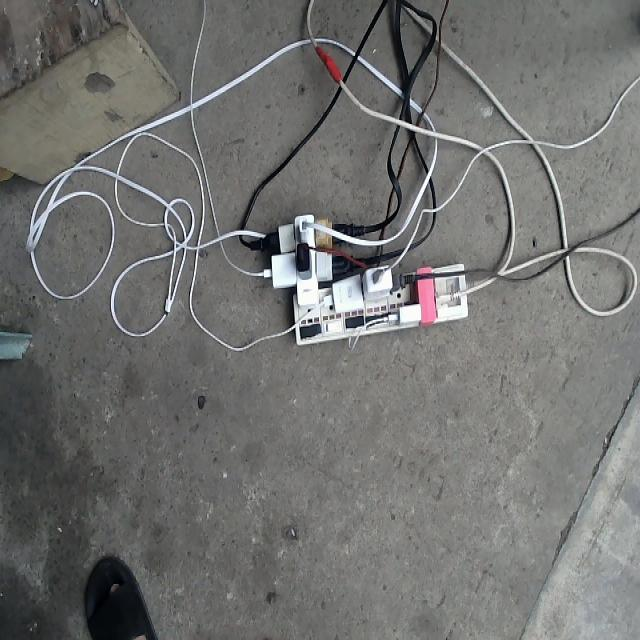-: (250, 209, 468, 344)
